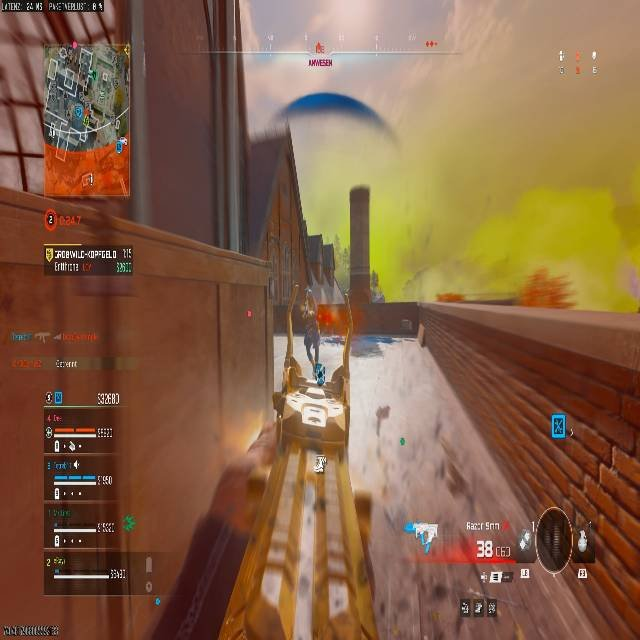player: (299, 293, 321, 367), (313, 362, 326, 385)
